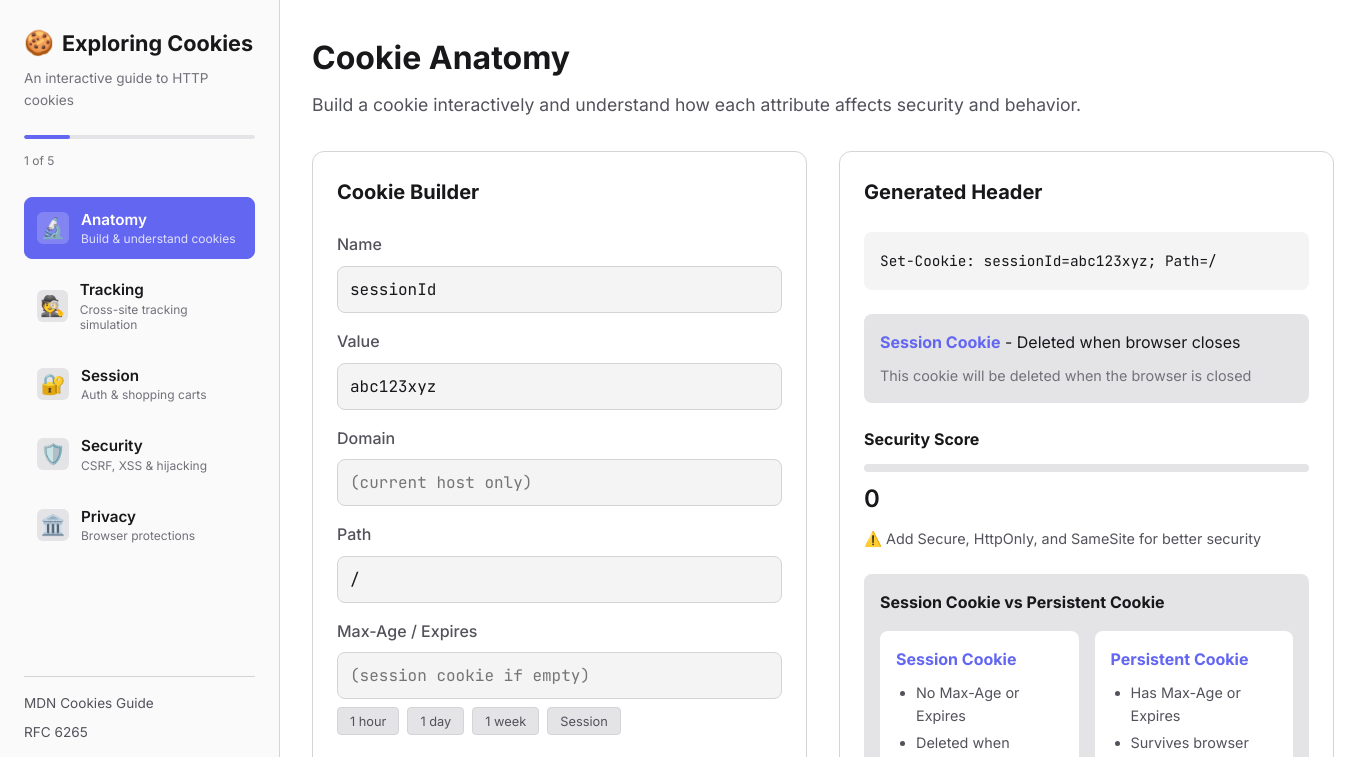
Test case: App › can navigate to security section
The image size is (1366, 757).
Click the text "Security": (112, 446) [81, 436, 143, 455]
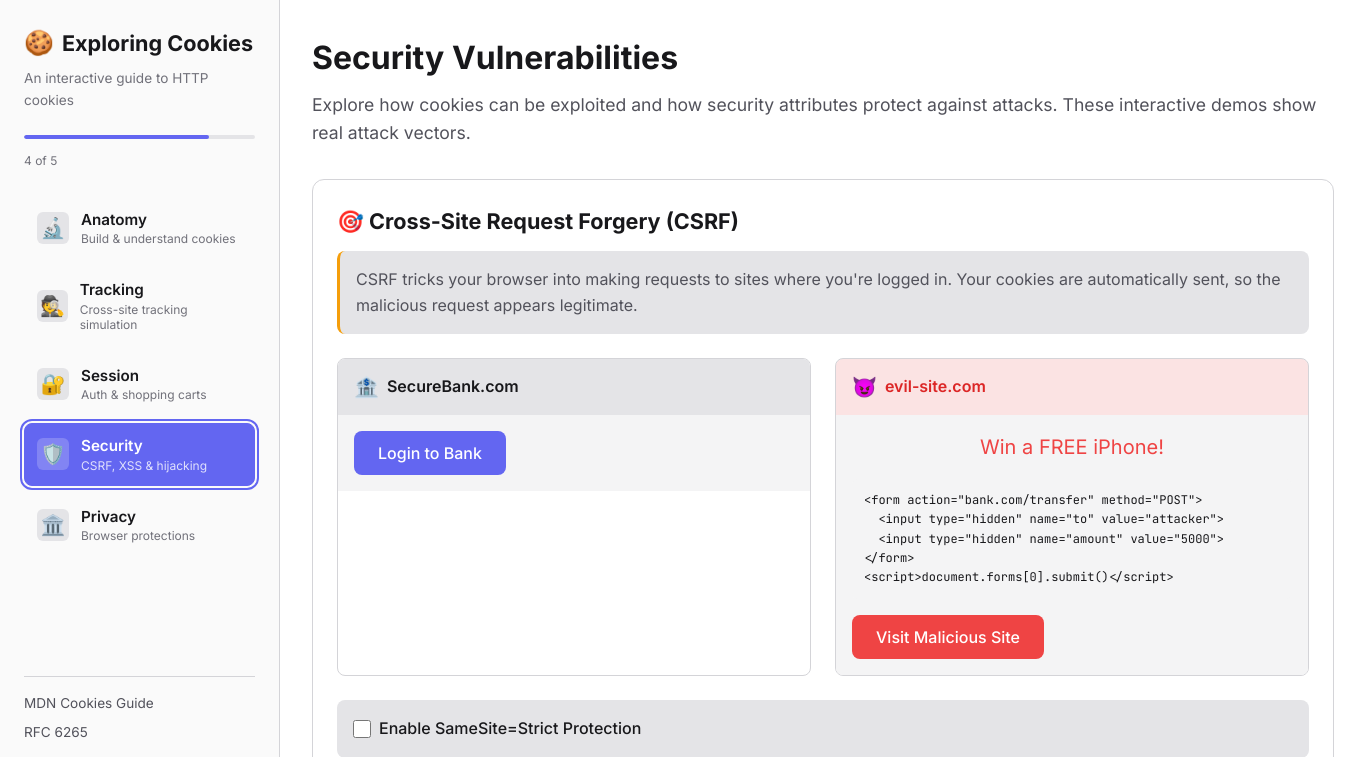
Expected: the heading "Security Vulnerabilities" is shown, [312, 38, 678, 77]
